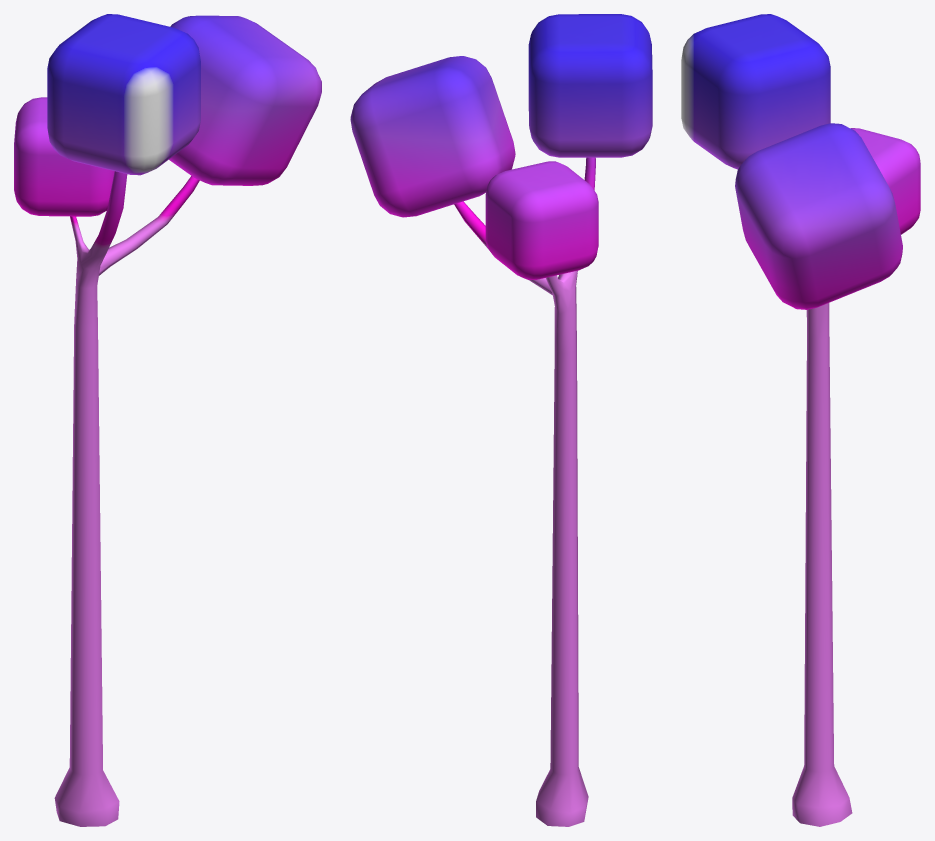
Rendered from Tree01.fbx.
3 renders of one model, left to right at view 1: azimuth 30°, elevation 25°; view 2: azimuth 150°, elevation 25°; view 3: azimuth 270°, elevation 25°, orthographic. The views are drawn at different scales.
Visible parts, largest first — view 1: Tree01; view 2: Tree01; view 3: Tree01.
Boxes of the visible parts, bbox=[...] form: Tree01: bbox=[14, 14, 321, 826]; Tree01: bbox=[350, 14, 652, 826]; Tree01: bbox=[681, 14, 920, 826].
Size of the model in its own units: 1691 by 4622 by 1285.
